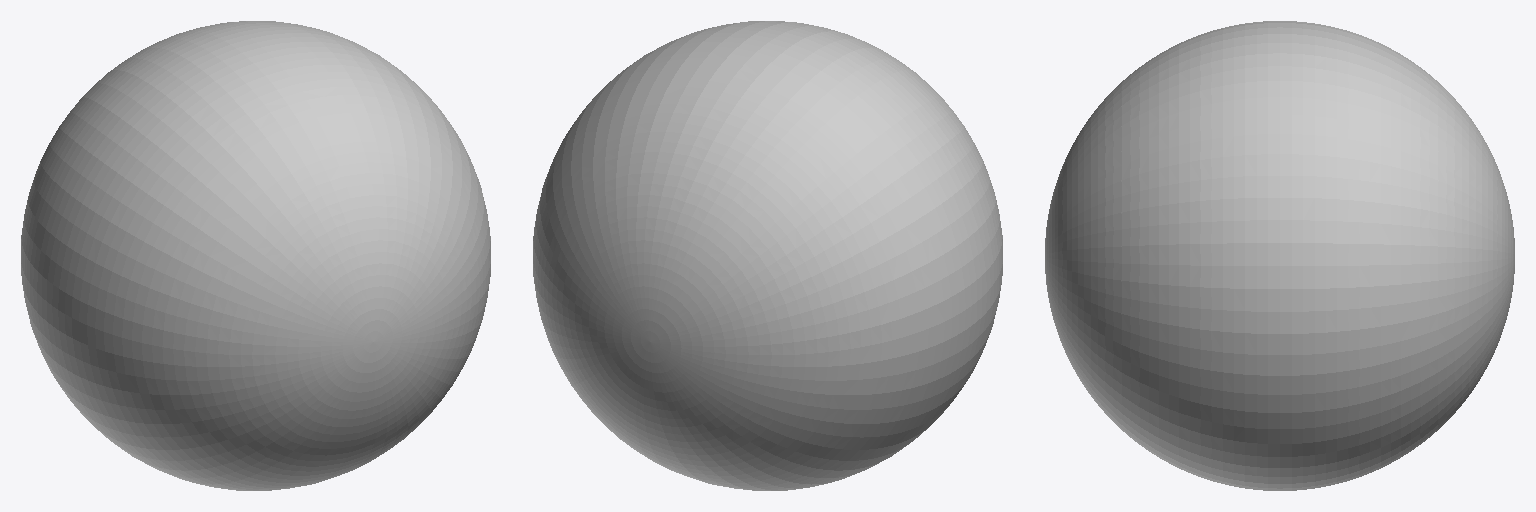
File: planet - CopyCentered.obj
3 renders of one model, left to right at view 1: azimuth 30°, elevation 25°; view 2: azimuth 150°, elevation 25°; view 3: azimuth 270°, elevation 25°, orthographic.
Visible parts, largest first — view 1: Plane.001; view 2: Plane.001; view 3: Plane.001.
Boxes of the visible parts, box(x1,y1,x2,y2) form: Plane.001: box(21, 21, 490, 490); Plane.001: box(533, 21, 1002, 490); Plane.001: box(1045, 21, 1514, 490).
Size of the model in its own units: 52.14 by 52.14 by 52.14.